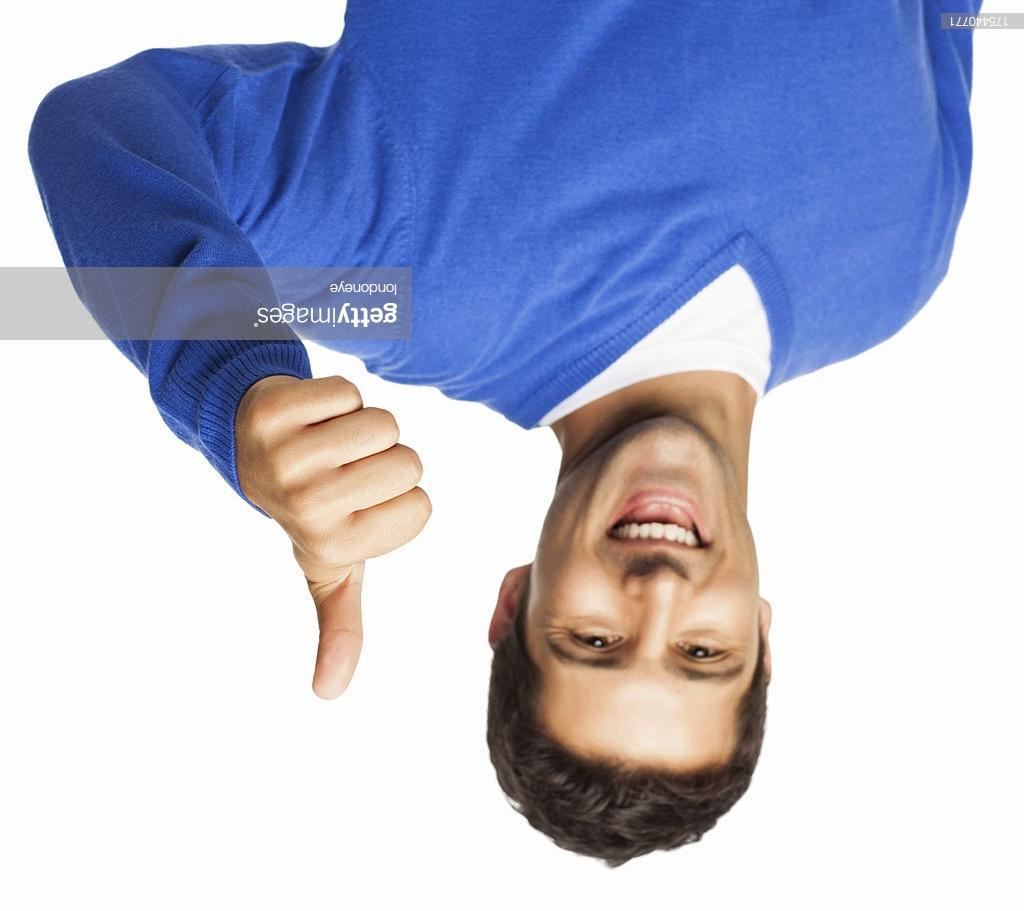thumbsdown: (246, 374, 433, 703)
